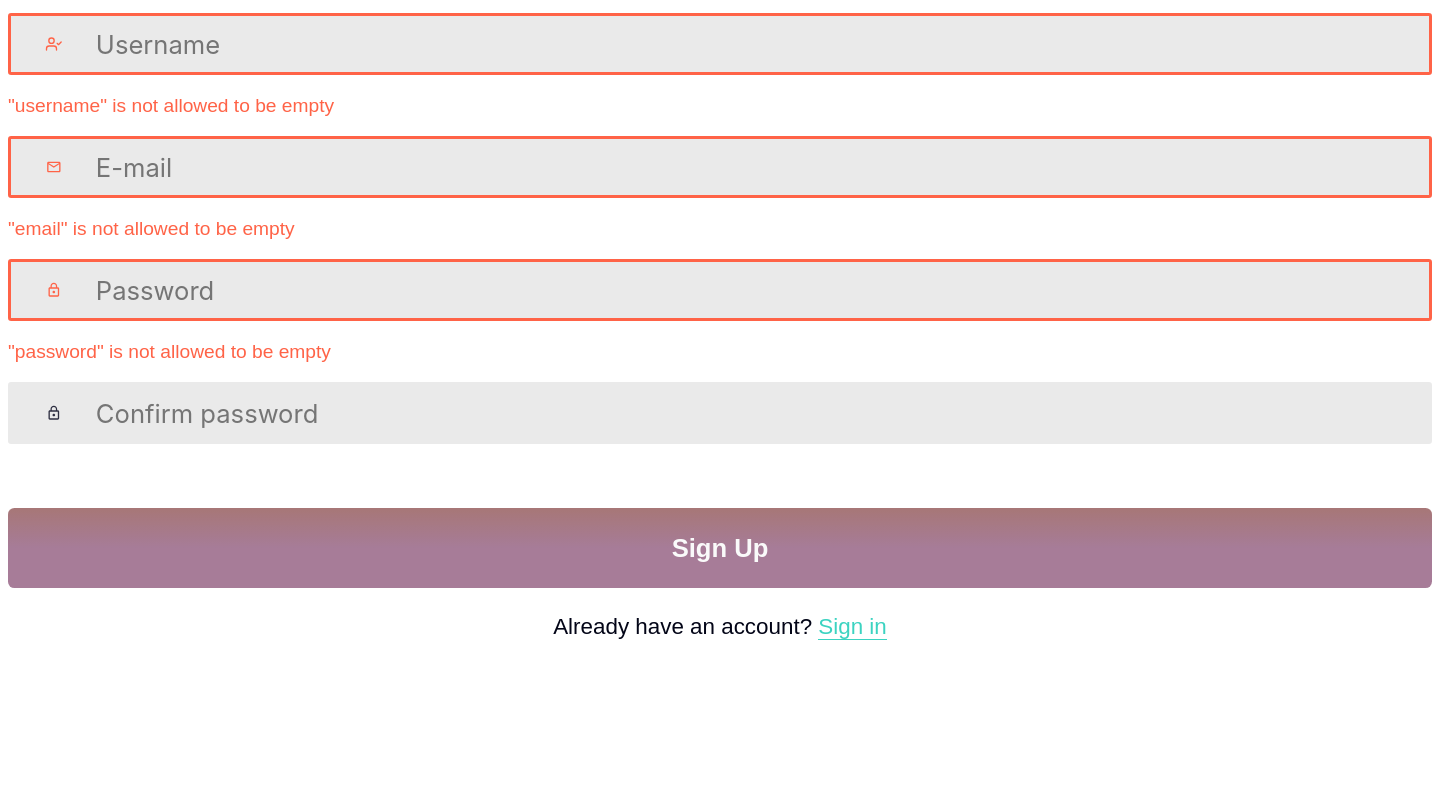
Test: <FormSignUp /> › should display an error if passwords do not match
Type "123" into the password field with placeholder "Password". click: (737, 290)
box: [70,262,1404,318]
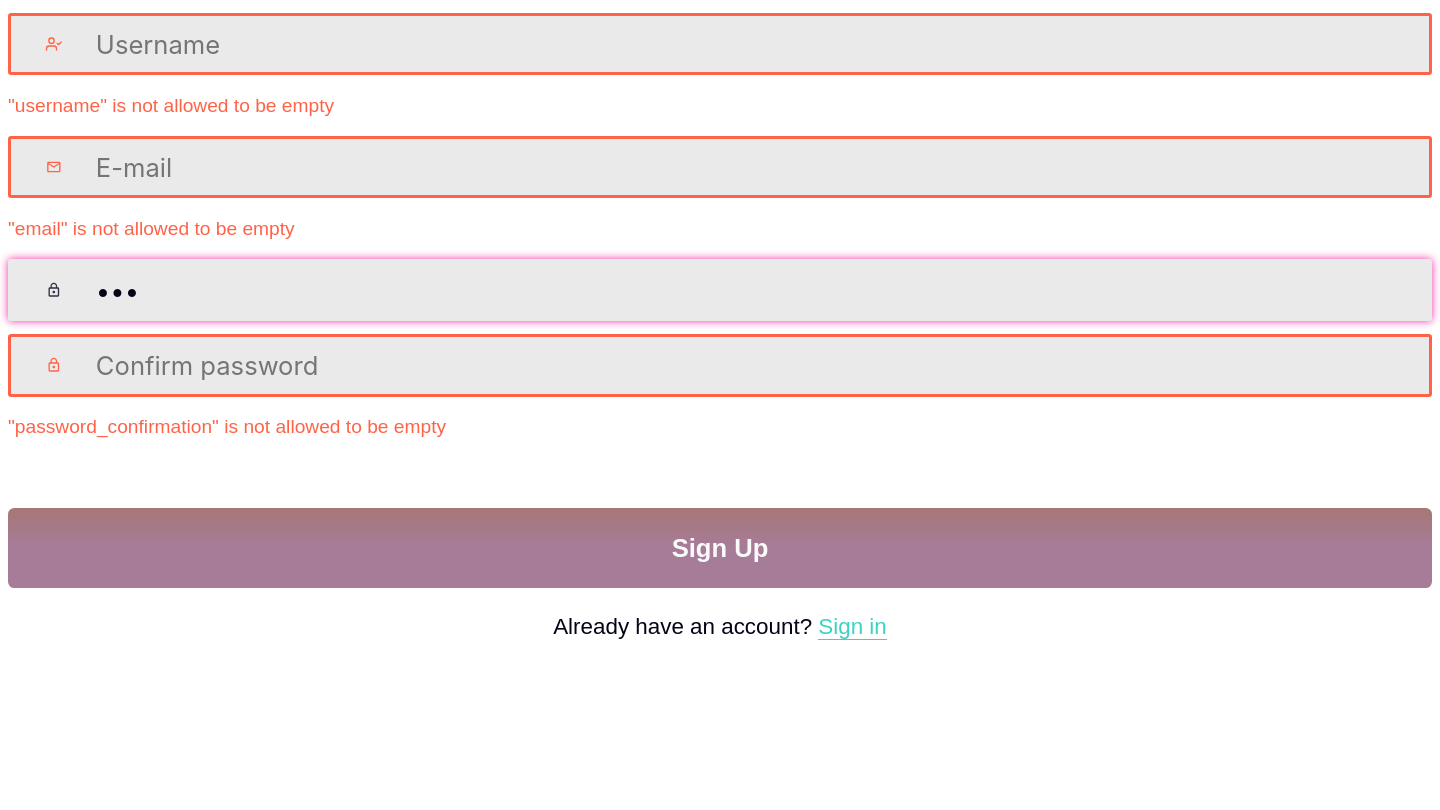
Type "1234" into the password field with placeholder "Confirm password". click: (737, 365)
box: [70,337,1404,394]
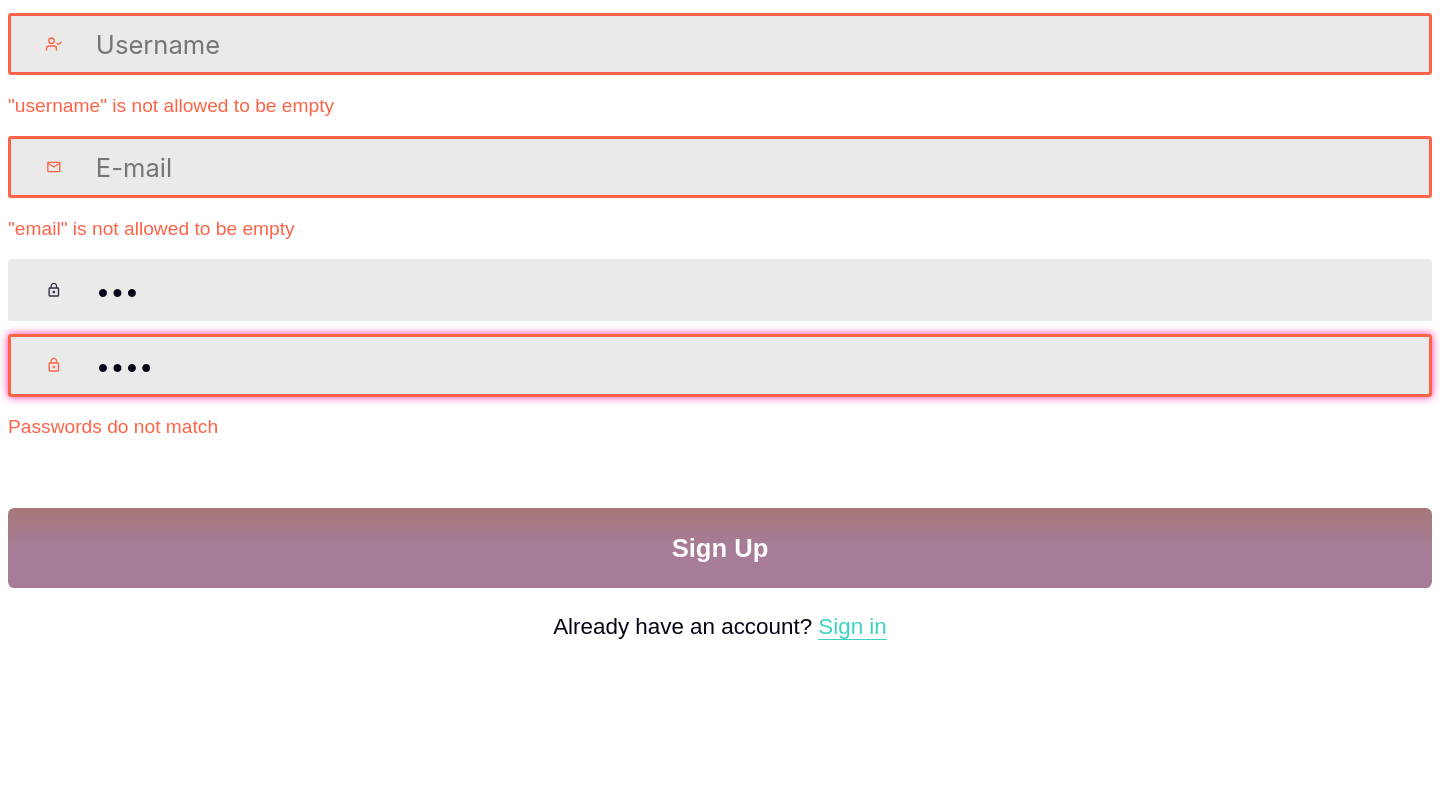
Expected: the text "Passwords do not match" is shown, [8,416,218,437]
